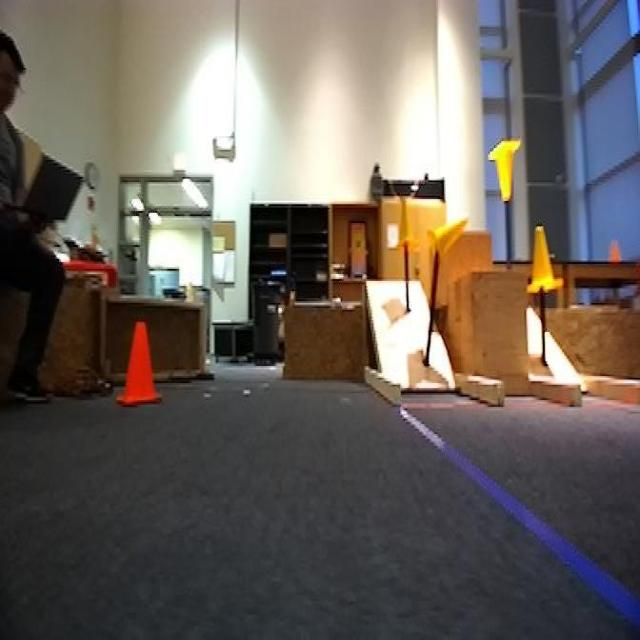frc_cone: (486, 134, 524, 202), (525, 230, 559, 291), (428, 220, 470, 267), (396, 196, 421, 252)
